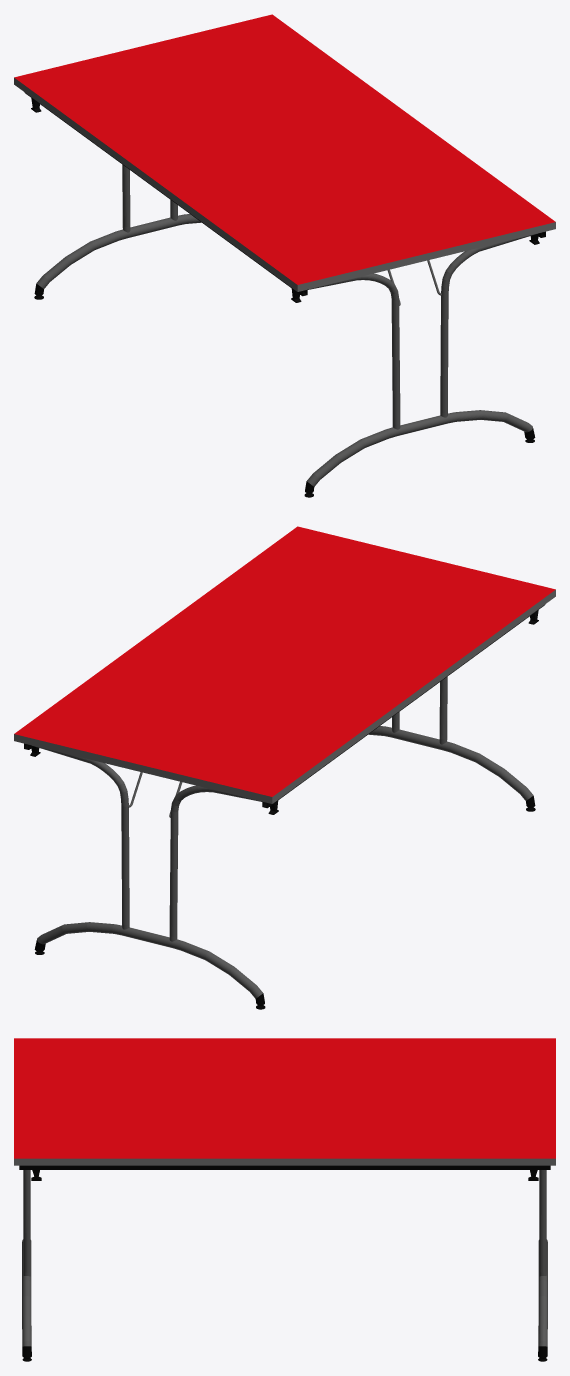
Rendered from table baby_rouge.fbx.
3 views of the same model, one above another, from view 1: azimuth 30°, elevation 25°; view 2: azimuth 150°, elevation 25°; view 3: azimuth 270°, elevation 25° (orthographic). The views are drawn at different scales.
Visible parts, largest first — view 1: table; view 2: table; view 3: table.
Part boxes in pixels (box(x1,y1,x2,y2)): table: box(14, 14, 555, 497); table: box(14, 526, 555, 1009); table: box(14, 1038, 555, 1361).
Bounding box in the file's own units: 157 × 128 × 298.
